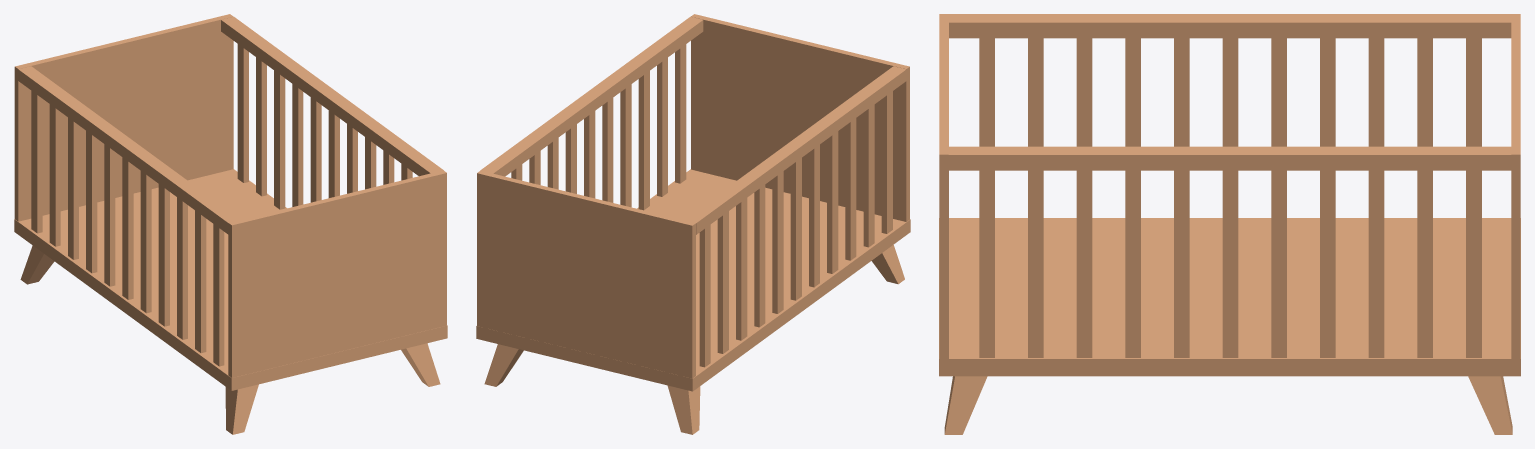
The model's file is crib.fbx.
The picture shows the model from 3 angles, left to right: view 1: azimuth 30°, elevation 25°; view 2: azimuth 150°, elevation 25°; view 3: azimuth 270°, elevation 25°; orthographic projection. The views are drawn at different scales.
Parts seen in each view (by area): view 1: crib, legs; view 2: crib, legs; view 3: crib, legs.
Part boxes in pixels (bbox=[...]): crib: bbox=[14, 14, 447, 390]; legs: bbox=[20, 245, 440, 434]; crib: bbox=[476, 14, 910, 391]; legs: bbox=[484, 245, 904, 434]; crib: bbox=[939, 14, 1520, 376]; legs: bbox=[944, 376, 1512, 434].
Bounding box in the file's own units: 194 × 182 × 339.
